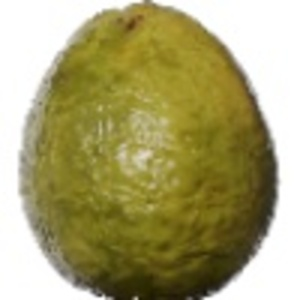goiaba: (15, 3, 279, 296)
